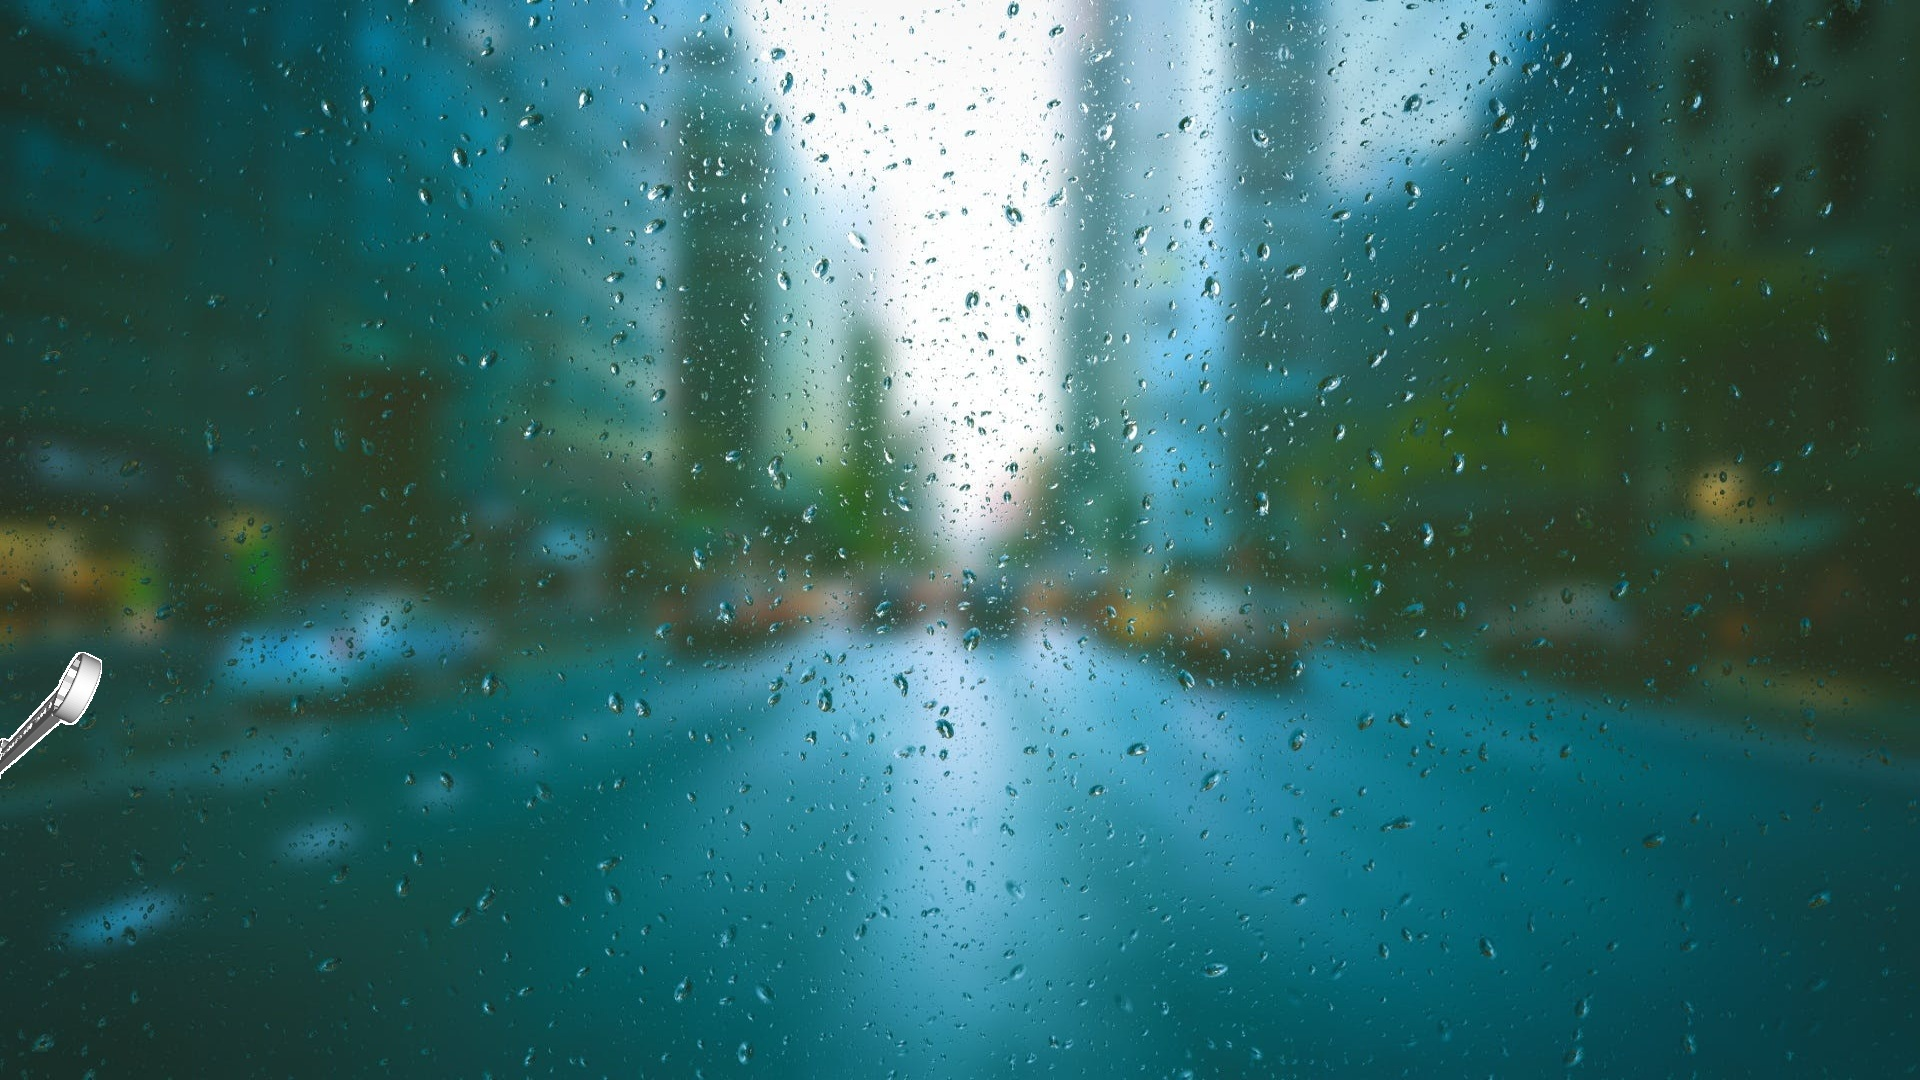Mixed Key: (0, 651, 102, 778)
